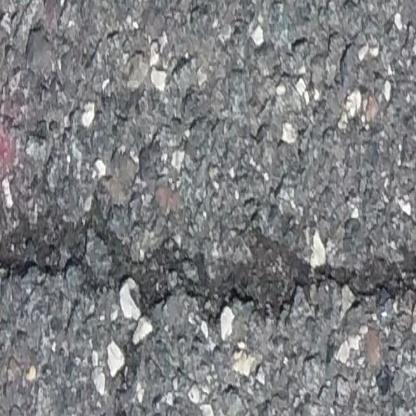Cracks: (0, 193, 416, 416)
